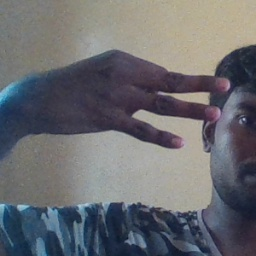K: (27, 49, 232, 151)
